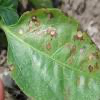Bell_pepper leaf spot: (6, 7, 99, 99)
